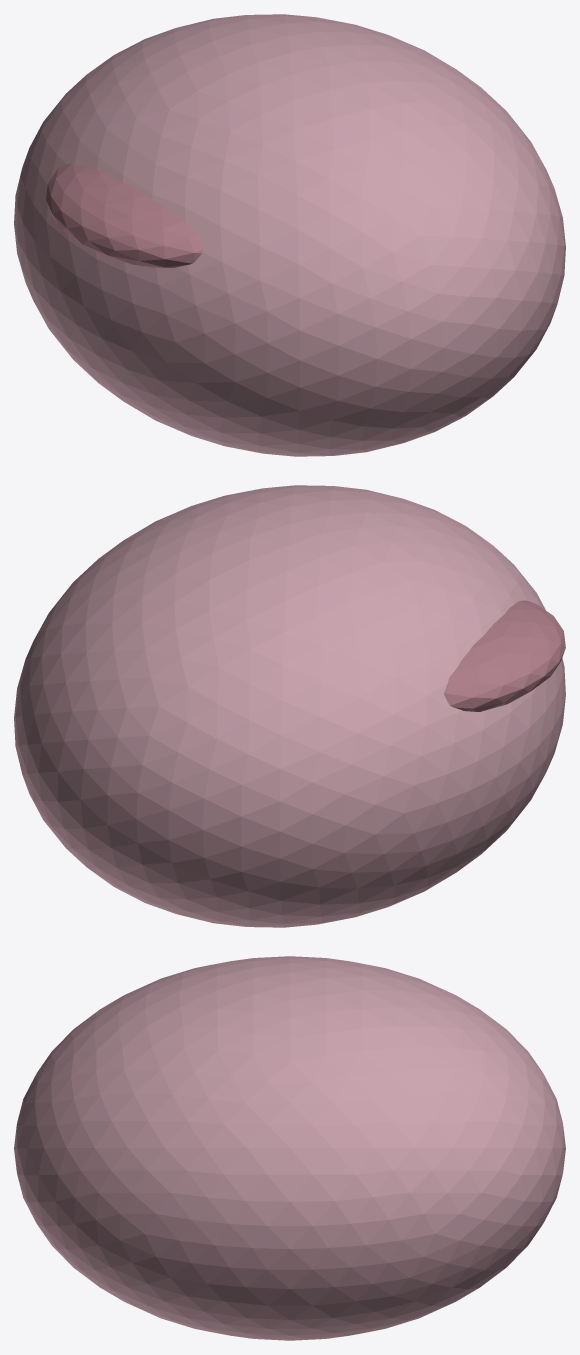
The model's file is pregnancy-t2-high.glb.
3 views of the same model, one above another, from view 1: azimuth 30°, elevation 25°; view 2: azimuth 150°, elevation 25°; view 3: azimuth 270°, elevation 25° (orthographic). The views are drawn at different scales.
Visible parts, largest first — view 1: uterus, placenta; view 2: uterus, placenta; view 3: uterus.
Boxes of the visible parts, left/top/right/bottom form: uterus: left=14, top=14, right=565, bottom=456; placenta: left=46, top=163, right=202, bottom=268; uterus: left=14, top=485, right=565, bottom=927; placenta: left=444, top=600, right=565, bottom=711; uterus: left=14, top=956, right=565, bottom=1340.
Size of the model in its own units: 2.55 by 1.9 by 2.9.
